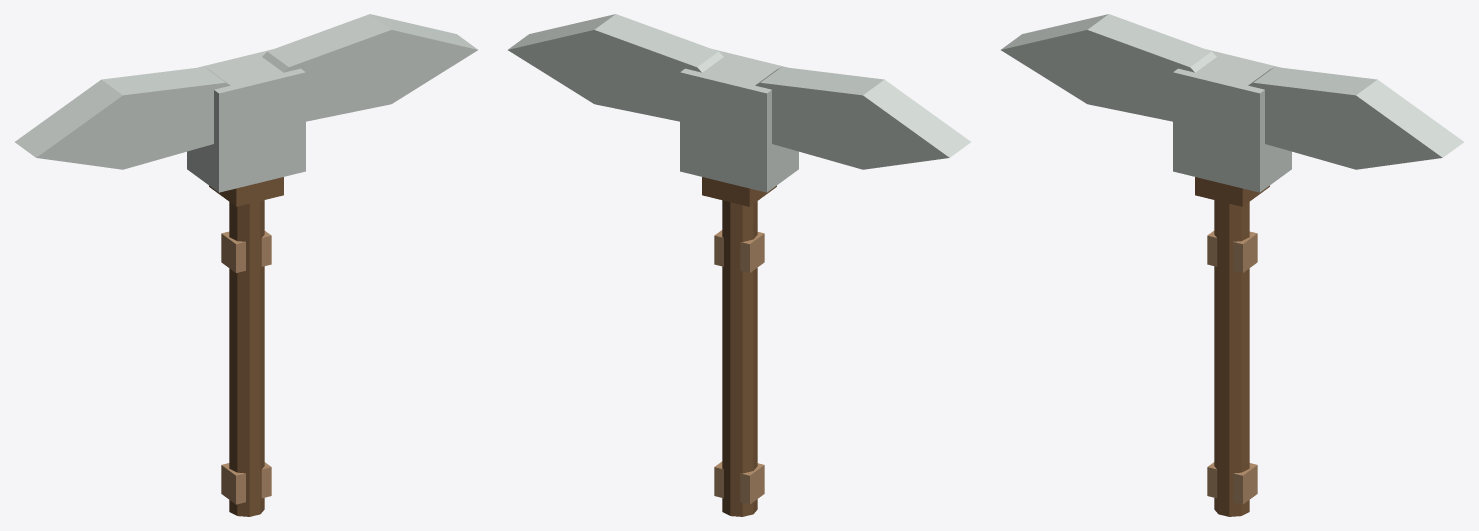
The model's file is ironPickaxe.glb.
3 views of the same model, side by side, from view 1: azimuth 30°, elevation 25°; view 2: azimuth 150°, elevation 25°; view 3: azimuth 330°, elevation 25° (orthographic).
Visible parts, largest first — view 1: PickaxeHead, PickaxeCollar, Handle, GripWrapHigh, GripWrapLow, ToolHeadSocket; view 2: PickaxeHead, PickaxeCollar, Handle, GripWrapLow, GripWrapHigh, ToolHeadSocket; view 3: PickaxeHead, PickaxeCollar, Handle, GripWrapHigh, GripWrapLow, ToolHeadSocket.
Boxes of the visible parts, bbox=[...] form: PickaxeHead: bbox=[15, 14, 477, 169]; PickaxeCollar: bbox=[187, 49, 305, 192]; Handle: bbox=[229, 200, 264, 516]; GripWrapHigh: bbox=[221, 231, 271, 272]; GripWrapLow: bbox=[221, 462, 271, 504]; ToolHeadSocket: bbox=[209, 177, 283, 206]; PickaxeHead: bbox=[508, 14, 970, 169]; PickaxeCollar: bbox=[680, 49, 798, 192]; Handle: bbox=[722, 200, 757, 516]; GripWrapLow: bbox=[714, 461, 764, 504]; GripWrapHigh: bbox=[714, 230, 764, 272]; ToolHeadSocket: bbox=[702, 177, 776, 206]; PickaxeHead: bbox=[1001, 14, 1463, 169]; PickaxeCollar: bbox=[1173, 49, 1291, 192]; Handle: bbox=[1214, 200, 1249, 516]; GripWrapHigh: bbox=[1207, 231, 1257, 272]; GripWrapLow: bbox=[1207, 462, 1257, 504]; ToolHeadSocket: bbox=[1195, 177, 1269, 206].
Bounding box in the file's own units: 1.12 × 1.1 × 0.14.
